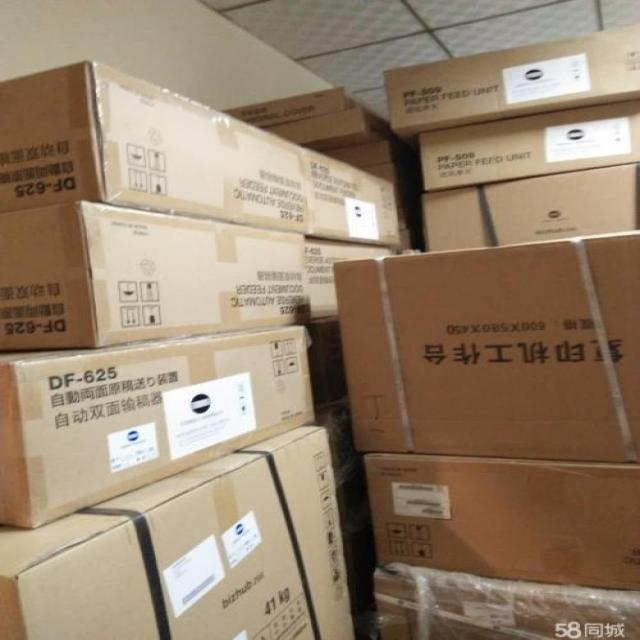box: (0, 59, 402, 248), (0, 426, 353, 640), (333, 230, 640, 463), (0, 324, 317, 530), (0, 201, 312, 353), (364, 453, 640, 593), (384, 25, 640, 144), (419, 99, 639, 190), (421, 163, 640, 251), (376, 567, 640, 639), (305, 239, 401, 318), (220, 85, 348, 128), (264, 107, 383, 151), (317, 141, 393, 167), (358, 161, 396, 182)
